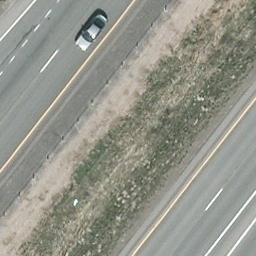car: (73, 13, 109, 53)
